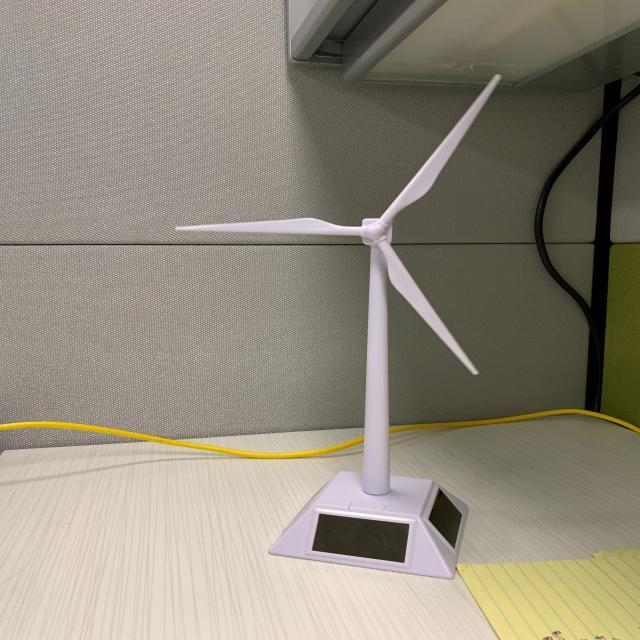solid-blade: (380, 75, 501, 224), (378, 241, 478, 374), (176, 218, 361, 236)
